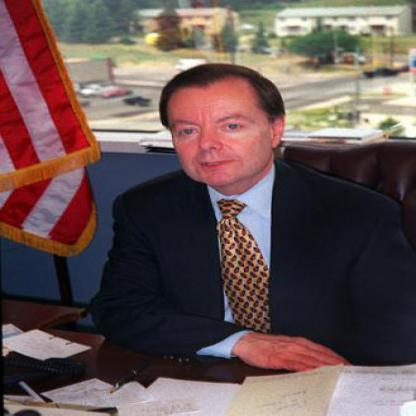face: (162, 67, 274, 187)
